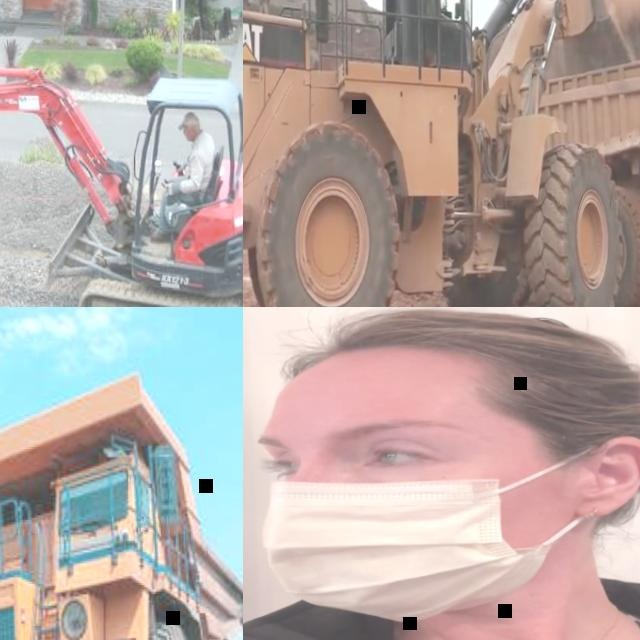Mask: (258, 441, 600, 622)
NO-Hardhat: (265, 307, 640, 410), (179, 111, 200, 127)
NO-Mask: (185, 132, 196, 140)
NO-Safety Vest: (187, 133, 215, 188)
Person: (243, 307, 640, 640), (148, 108, 217, 241)
machinery: (243, 0, 640, 307), (0, 365, 243, 640), (0, 57, 243, 307), (521, 44, 640, 307)
